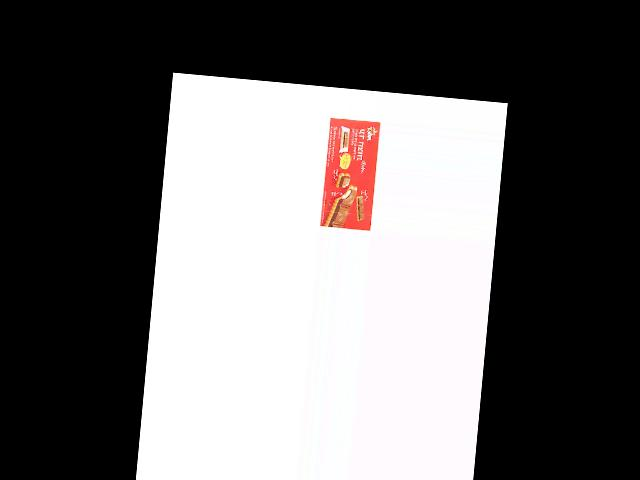chocolate: (319, 115, 381, 231)
